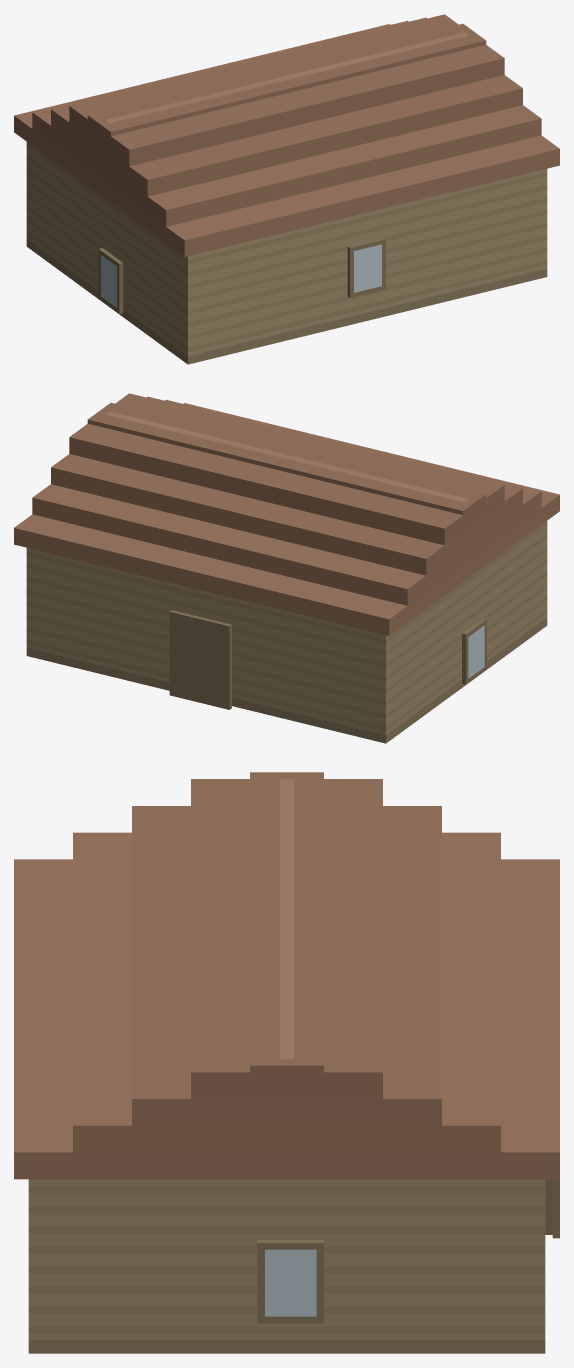
The model's file is molino_viento_01.glb.
3 views of the same model, one above another, from view 1: azimuth 30°, elevation 25°; view 2: azimuth 150°, elevation 25°; view 3: azimuth 270°, elevation 25° (orthographic). The views are drawn at different scales.
Visible parts, largest first — view 1: molino_viento_01; view 2: molino_viento_01; view 3: molino_viento_01.
Part boxes in pixels (left/top/right/bottom): molino_viento_01: left=14, top=14, right=559, bottom=364; molino_viento_01: left=14, top=393, right=559, bottom=743; molino_viento_01: left=14, top=772, right=559, bottom=1353.
Size of the model in its own units: 9.4 by 4.4 by 7.4.
